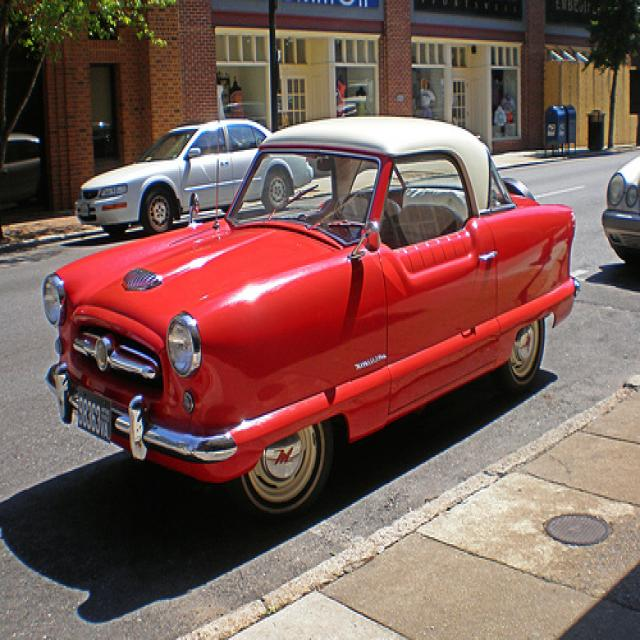Car: (43, 109, 584, 519), (71, 105, 324, 238)
